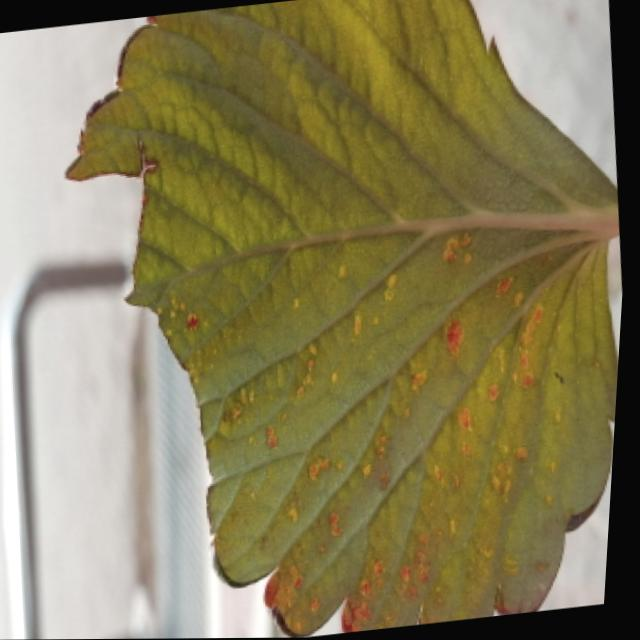Angular Leafspot: (155, 227, 609, 638)
